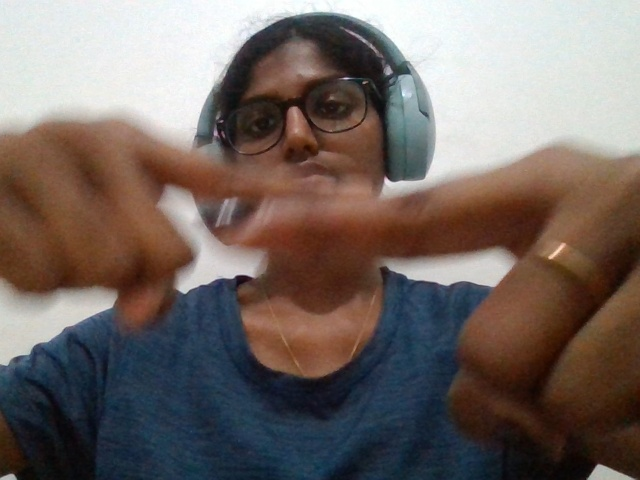Sign: (1, 83, 635, 474)
